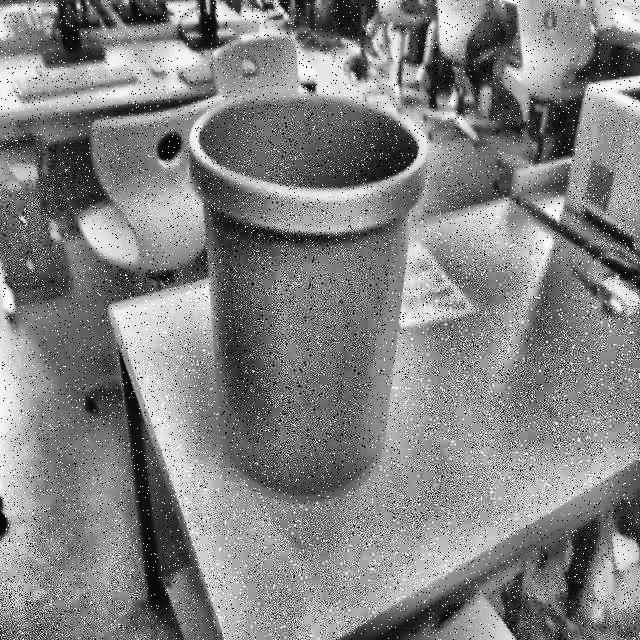Dustbin: (181, 75, 437, 518)
